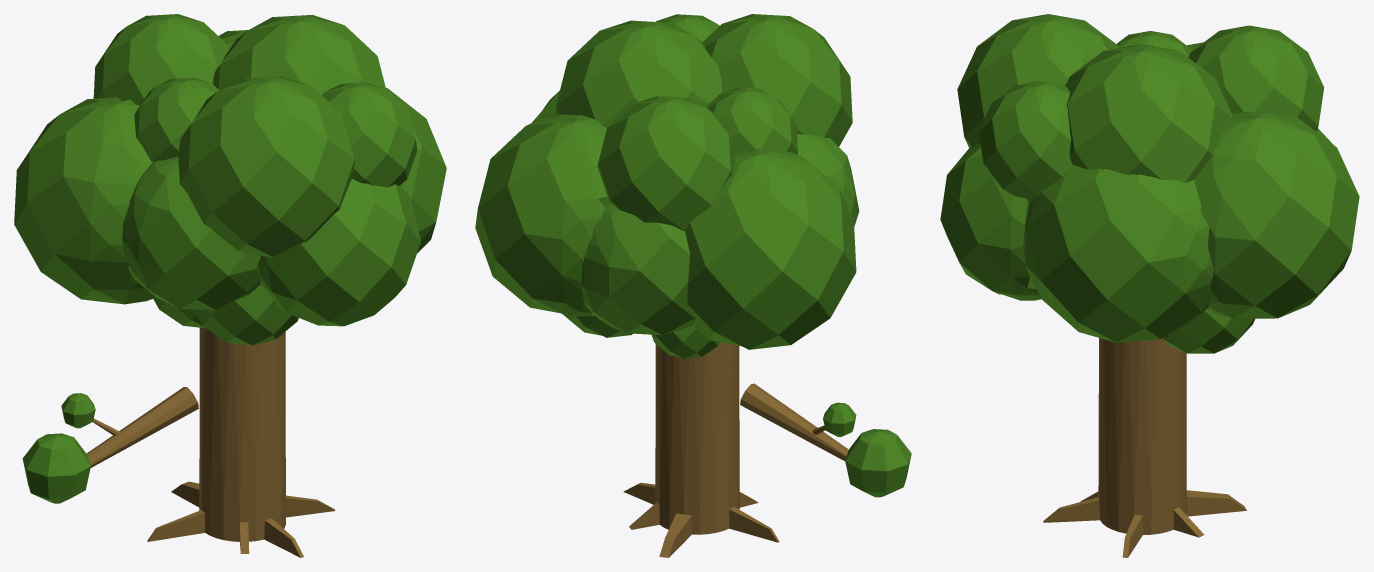
Rendered from Tree.fbx.
3 views of the same model, side by side, from view 1: azimuth 30°, elevation 25°; view 2: azimuth 150°, elevation 25°; view 3: azimuth 270°, elevation 25° (orthographic). The views are drawn at different scales.
Visible parts, largest first — view 1: leaves, trunk.001, branch; view 2: leaves, trunk.001, branch; view 3: leaves, trunk.001.
Boxes of the visible parts, left/top/right/bottom form: leaves: left=14, top=14, right=446, bottom=345; trunk.001: left=147, top=327, right=335, bottom=557; branch: left=22, top=387, right=198, bottom=503; leaves: left=475, top=14, right=859, bottom=358; trunk.001: left=623, top=342, right=779, bottom=557; branch: left=740, top=383, right=911, bottom=497; leaves: left=940, top=14, right=1359, bottom=353; trunk.001: left=1043, top=338, right=1246, bottom=557.
Bounding box in the file's own units: 1273 × 1495 × 1154.
